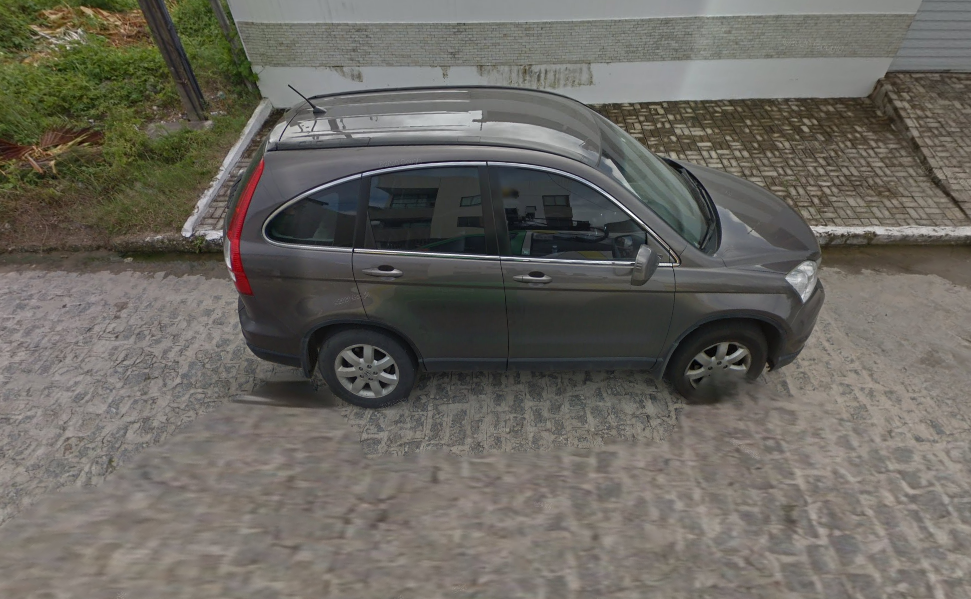car: (218, 80, 831, 410)
